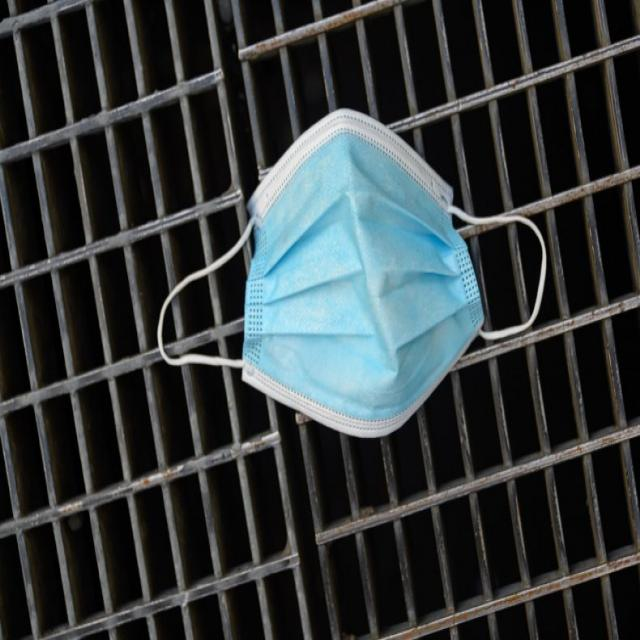non-organic waste: (152, 110, 547, 440)
